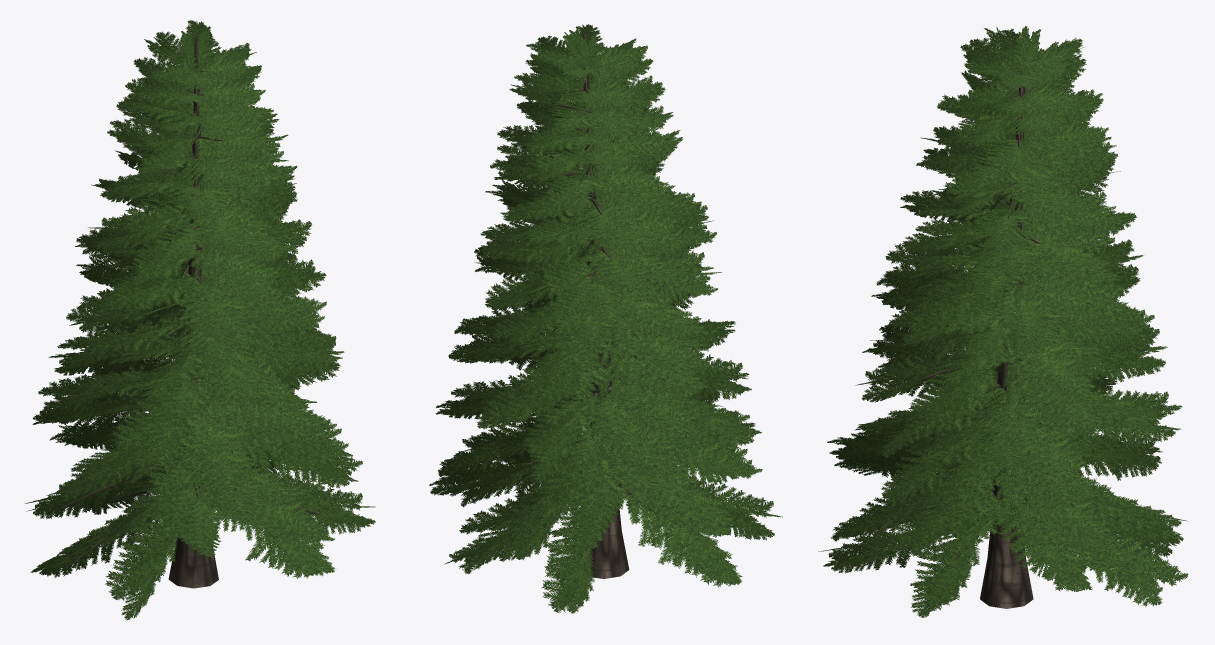
Rendered from pine.gltf.
3 renders of one model, left to right at view 1: azimuth 30°, elevation 25°; view 2: azimuth 150°, elevation 25°; view 3: azimuth 270°, elevation 25°, orthographic. The views are drawn at different scales.
Visible parts, largest first — view 1: pine; view 2: pine; view 3: pine.
Part boxes in pixels (x1=…): pine: x1=24, y1=20, x2=375, y2=620; pine: x1=429, y1=24, x2=782, y2=613; pine: x1=818, y1=26, x2=1188, y2=617.
Size of the model in its own units: 6.8 by 11.16 by 6.77.
Materials: 2 (2 with a texture image).
